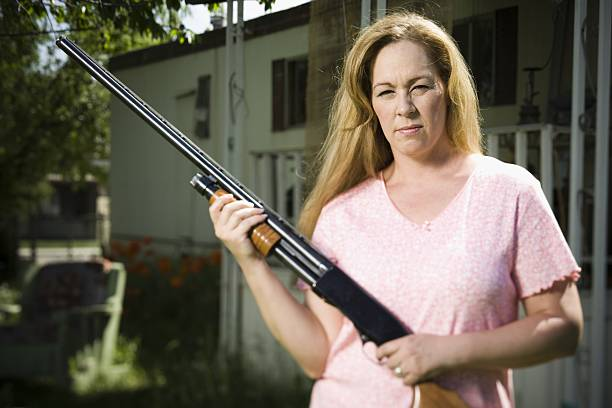shotgun: (48, 24, 344, 353)
